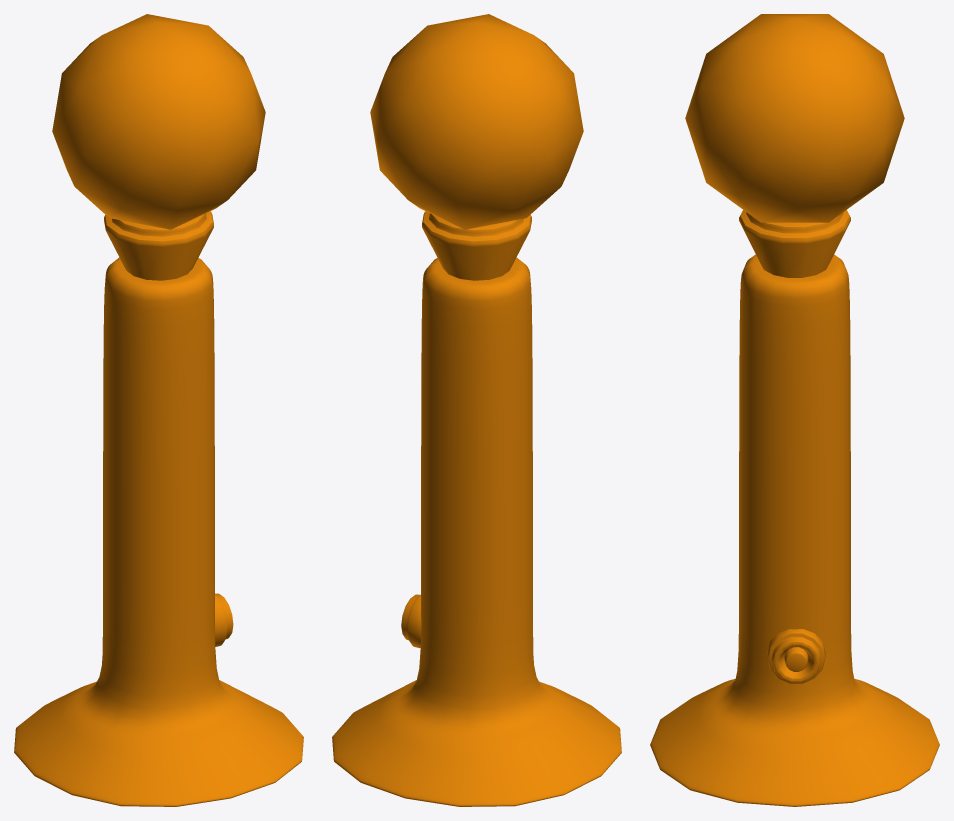
File: micro_low.fbx
The picture shows the model from 3 angles, left to right: view 1: azimuth 30°, elevation 25°; view 2: azimuth 150°, elevation 25°; view 3: azimuth 270°, elevation 25°; orthographic projection.
Parts seen in each view (by area): view 1: stick_low, micro_low, support_low, btn_low; view 2: stick_low, micro_low, support_low, btn_low; view 3: stick_low, micro_low, support_low, btn_low.
Boxes of the visible parts, x1,y1,x2,y2 form: stick_low: (14, 257, 303, 806); micro_low: (52, 14, 265, 229); support_low: (104, 211, 213, 280); btn_low: (215, 593, 233, 646); stick_low: (332, 257, 621, 806); micro_low: (370, 14, 583, 229); support_low: (422, 211, 531, 280); btn_low: (401, 594, 421, 648); stick_low: (650, 254, 939, 806); micro_low: (685, 14, 904, 222); support_low: (739, 210, 850, 277); btn_low: (767, 629, 825, 683).
Bounding box in the file's own units: 277 × 768 × 277.
